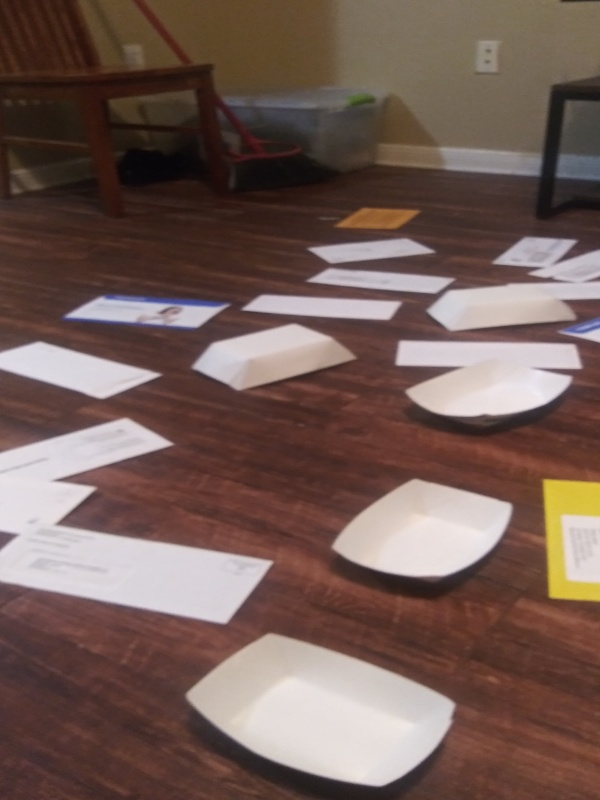plate: (178, 628, 462, 791), (327, 475, 519, 596), (400, 349, 579, 438), (187, 324, 363, 397), (422, 284, 583, 340)
